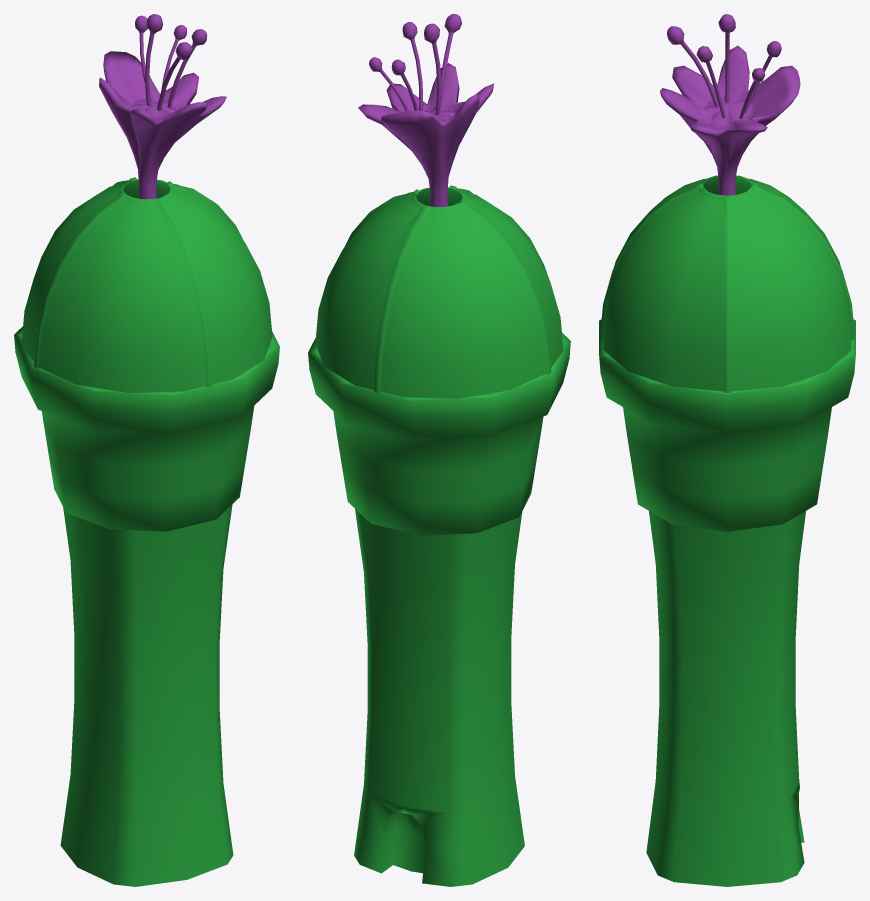
Rendered from SM_Building_Flower_B.fbx.
3 renders of one model, left to right at view 1: azimuth 30°, elevation 25°; view 2: azimuth 150°, elevation 25°; view 3: azimuth 270°, elevation 25°, orthographic. The views are drawn at different scales.
Visible parts, largest first — view 1: pCylinder31; view 2: pCylinder31; view 3: pCylinder31.
Part boxes in pixels (x1,y1,x2,y2): pCylinder31: (14, 14, 279, 886); pCylinder31: (308, 14, 570, 886); pCylinder31: (599, 14, 855, 886).
Size of the model in its own units: 377 by 1296 by 358.
